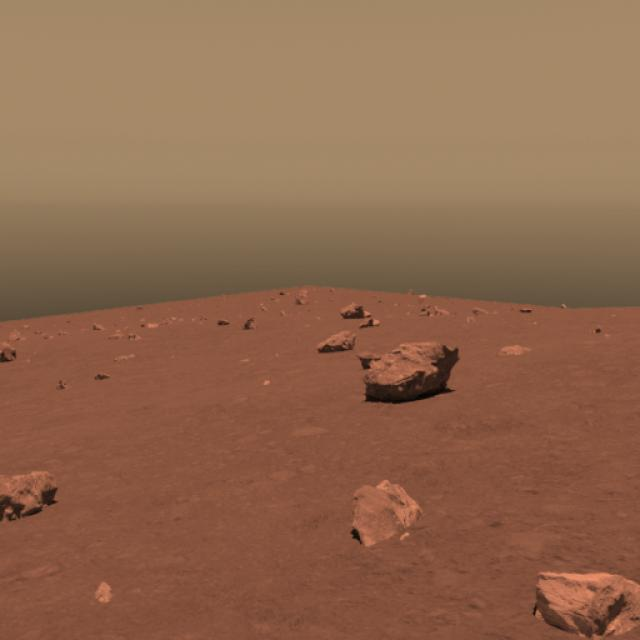rock: (525, 563, 640, 640), (357, 339, 456, 401), (346, 470, 423, 548), (0, 463, 66, 522)
